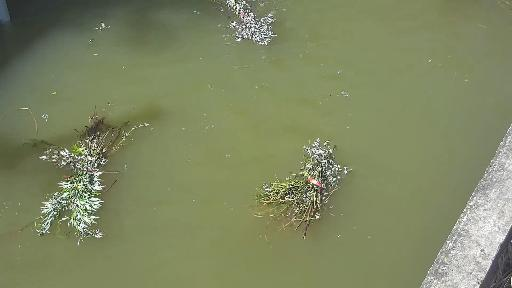twig: (28, 104, 178, 245), (245, 125, 373, 247), (188, 0, 294, 59)
